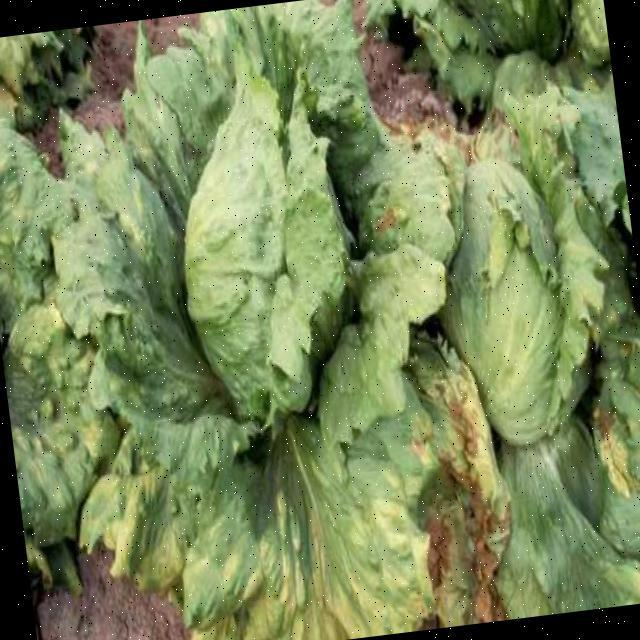Downy_mildew_on_lettuce: (324, 154, 639, 632)
